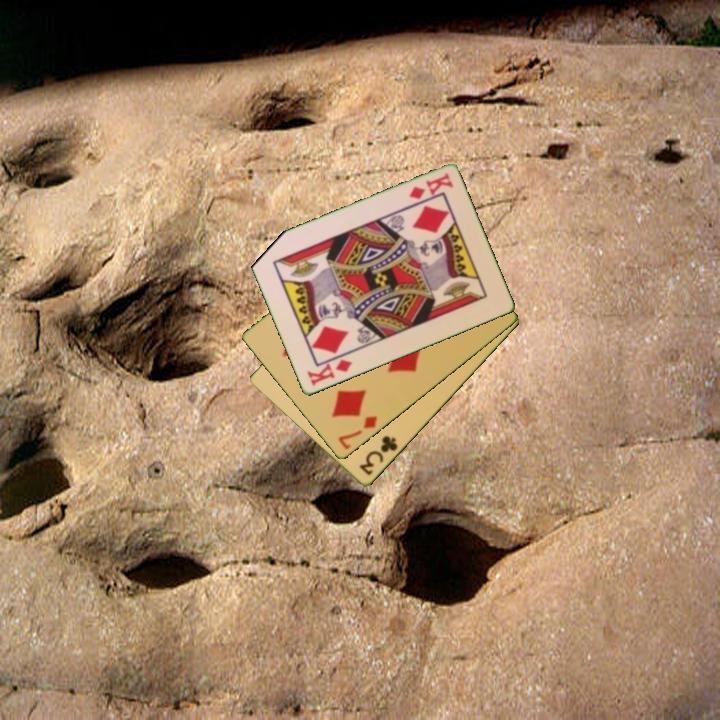3c: (356, 432, 401, 479)
7d: (334, 413, 380, 453)
Kd: (303, 356, 355, 389), (405, 170, 456, 203)
